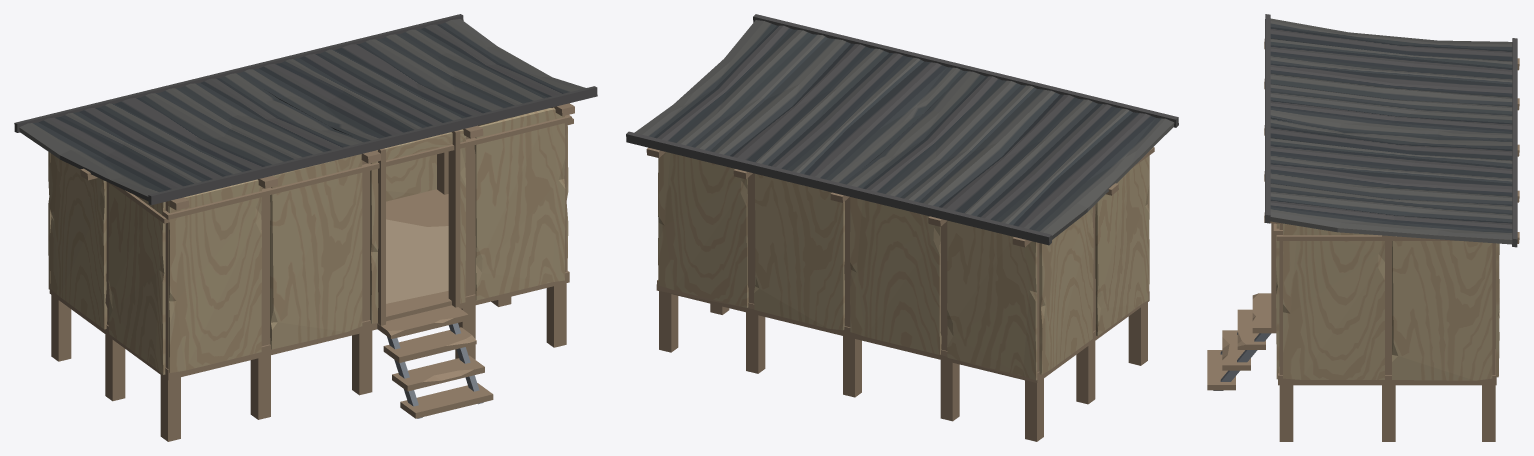
Rendered from SM_Bld_Plywood_Shed_Small_01.glb.
3 views of the same model, side by side, from view 1: azimuth 30°, elevation 25°; view 2: azimuth 150°, elevation 25°; view 3: azimuth 270°, elevation 25° (orthographic). The views are drawn at different scales.
Parts seen in each view (by area): view 1: SM_Bld_Plywood_Shed_Small_01; view 2: SM_Bld_Plywood_Shed_Small_01; view 3: SM_Bld_Plywood_Shed_Small_01.
Part boxes in pixels (x1,y1,x2,y2): SM_Bld_Plywood_Shed_Small_01: [14, 14, 597, 441]; SM_Bld_Plywood_Shed_Small_01: [626, 14, 1178, 441]; SM_Bld_Plywood_Shed_Small_01: [1207, 14, 1519, 441].
Bounding box in the file's own units: 6.64 × 3.7 × 4.36.
Materials: 1 (1 with a texture image).
